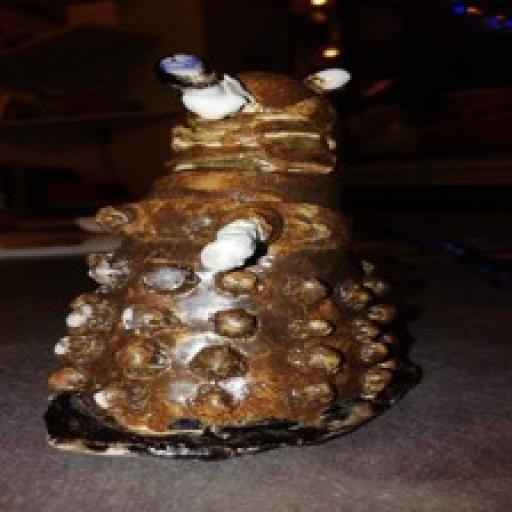dalek: (11, 37, 404, 465)
